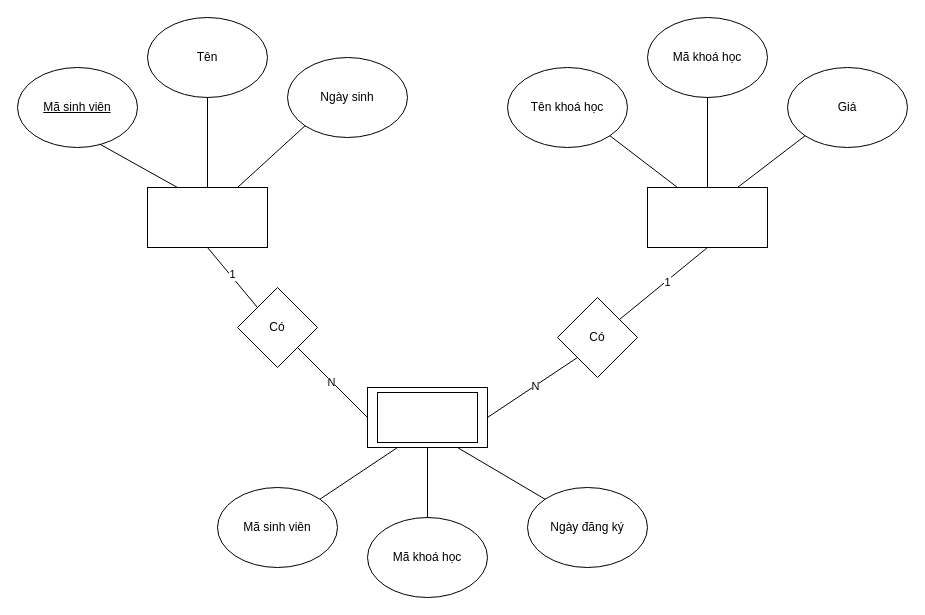
The diagram is 925 pixels wide and 615 high, and some of its shapes have lost their labels. The shapes that lost their labels are listed below. From the top down, each one's box as (x1, y1, x2, y2) in pixels, then its label:
(146, 186, 268, 248): Student
(646, 186, 768, 248): Course
(376, 392, 478, 442): Enrollment
